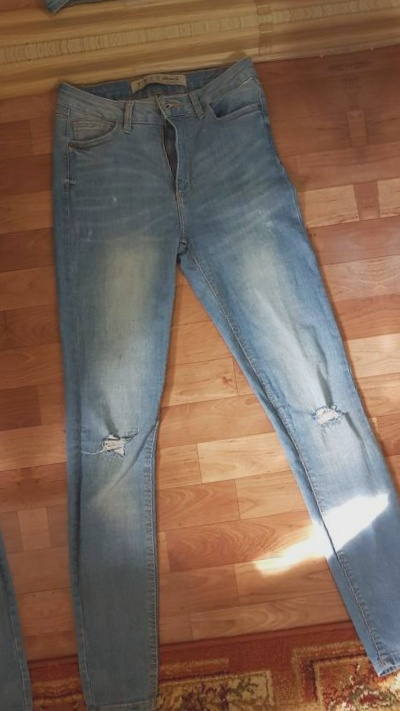Pants: (0, 35, 400, 711), (347, 0, 400, 692), (0, 90, 38, 711), (0, 0, 336, 29)
